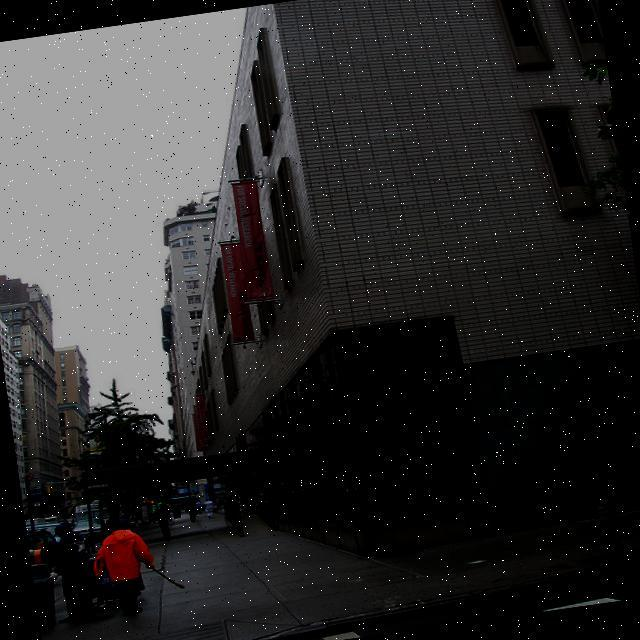fire_hydrant: (590, 496, 636, 574)
